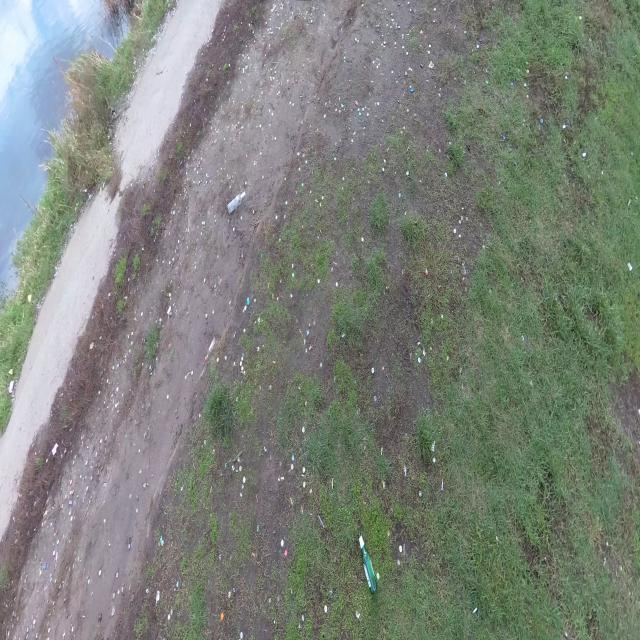rubbish: (359, 530, 377, 591), (227, 192, 246, 219)
